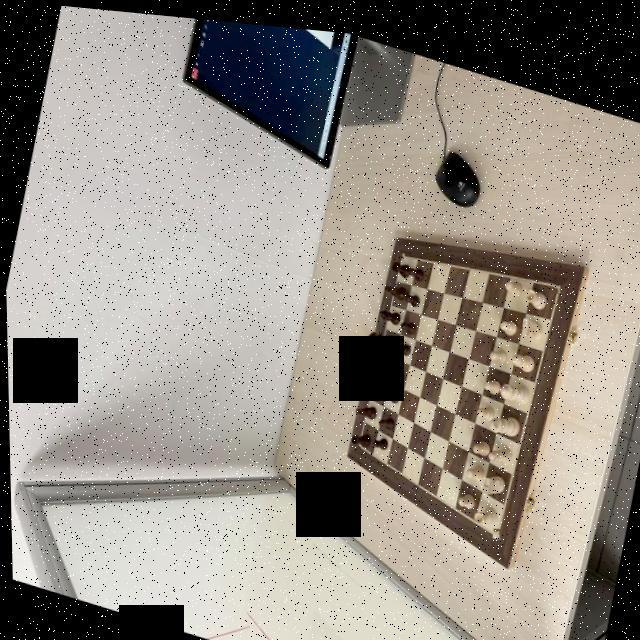chess-table-corners: (552, 268, 562, 282), (489, 517, 499, 529), (399, 243, 404, 250), (354, 436, 359, 440)
